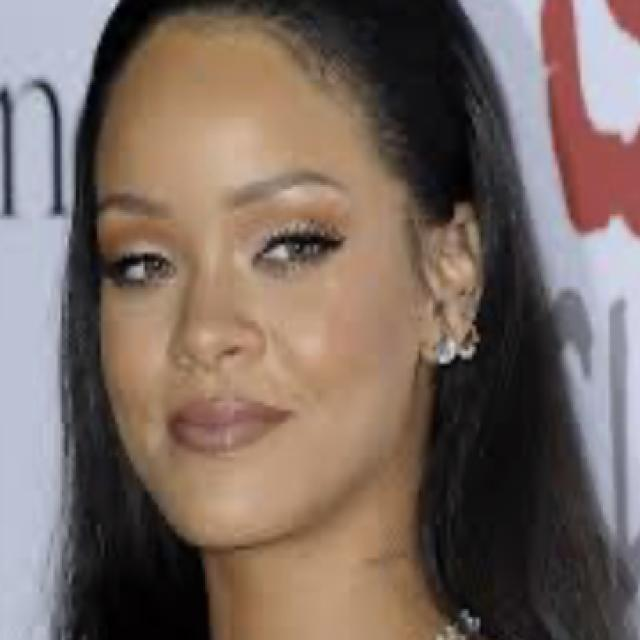natural: (56, 65, 498, 546)
